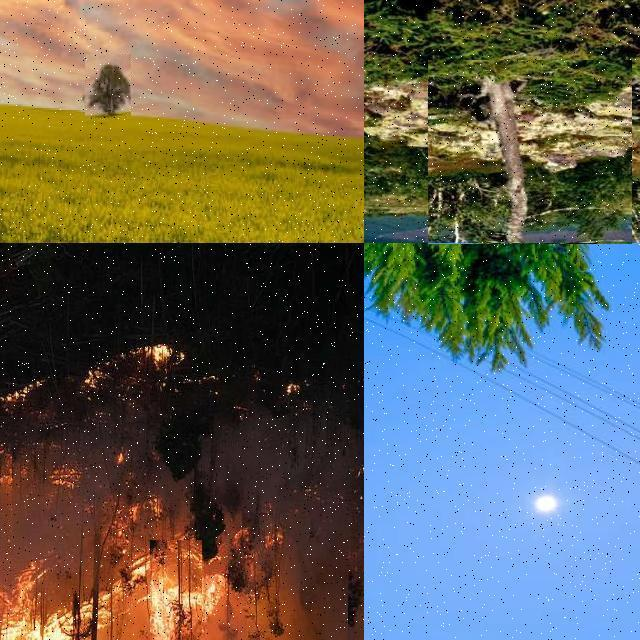tree: (364, 243, 636, 409), (428, 60, 632, 244), (12, 524, 170, 640), (150, 540, 202, 640), (190, 442, 226, 566), (156, 415, 202, 487), (85, 54, 131, 118), (246, 564, 274, 640), (0, 454, 12, 606), (268, 548, 284, 640), (348, 572, 364, 640)
